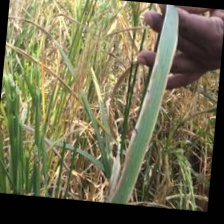Leaf_Blast: (126, 38, 162, 180)
